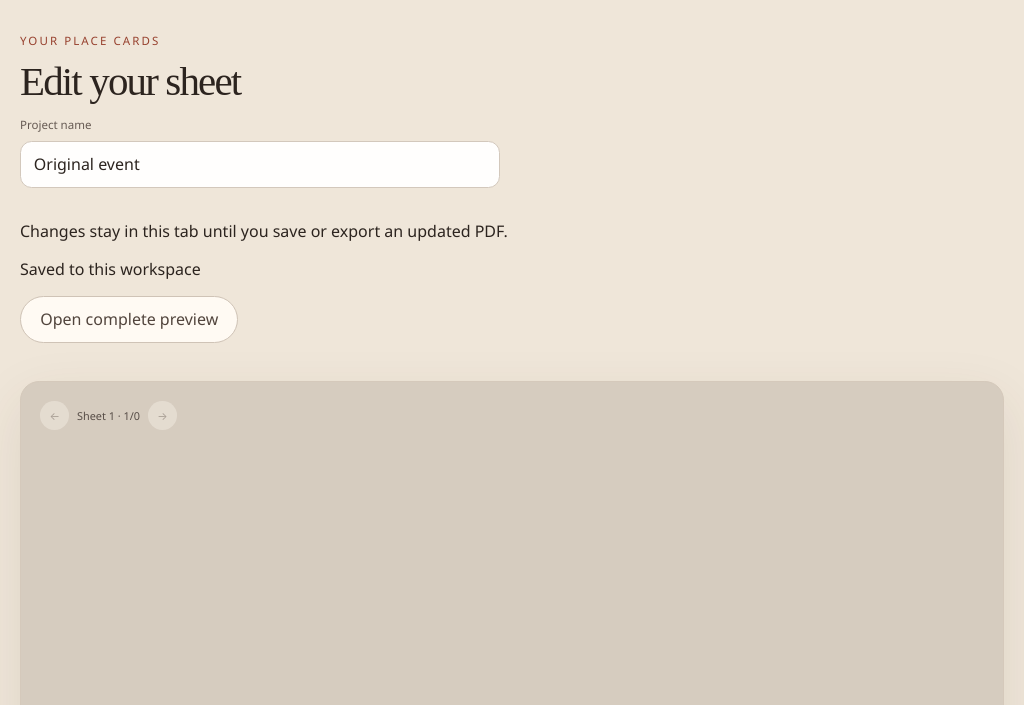
Test: current creator input and export › saves a name-only edit on the existing project and hides the stale PDF
Replace the text in the field labelled "Project name" with "Renamed saved project". click: (260, 164)
box: [20,141,500,188]
(page scrolled)
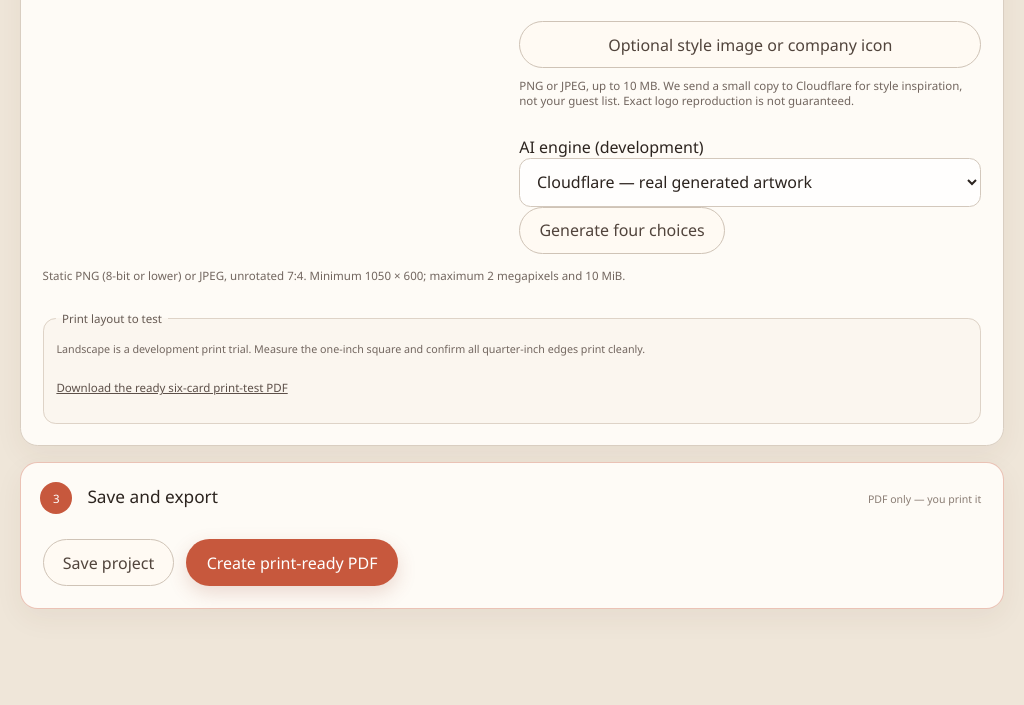
Click the button "Save project". click: (109, 563)
box: [43,539,174,586]
(page scrolled)
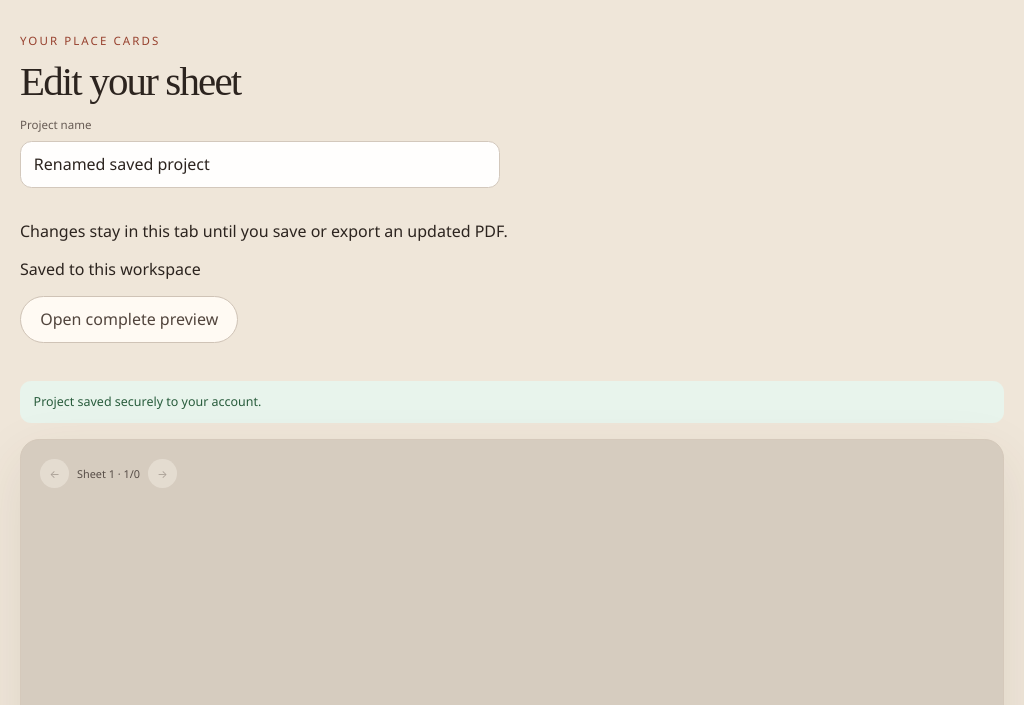
Expected: the text "Saved to this workspace" is shown, [20,258,201,280]
